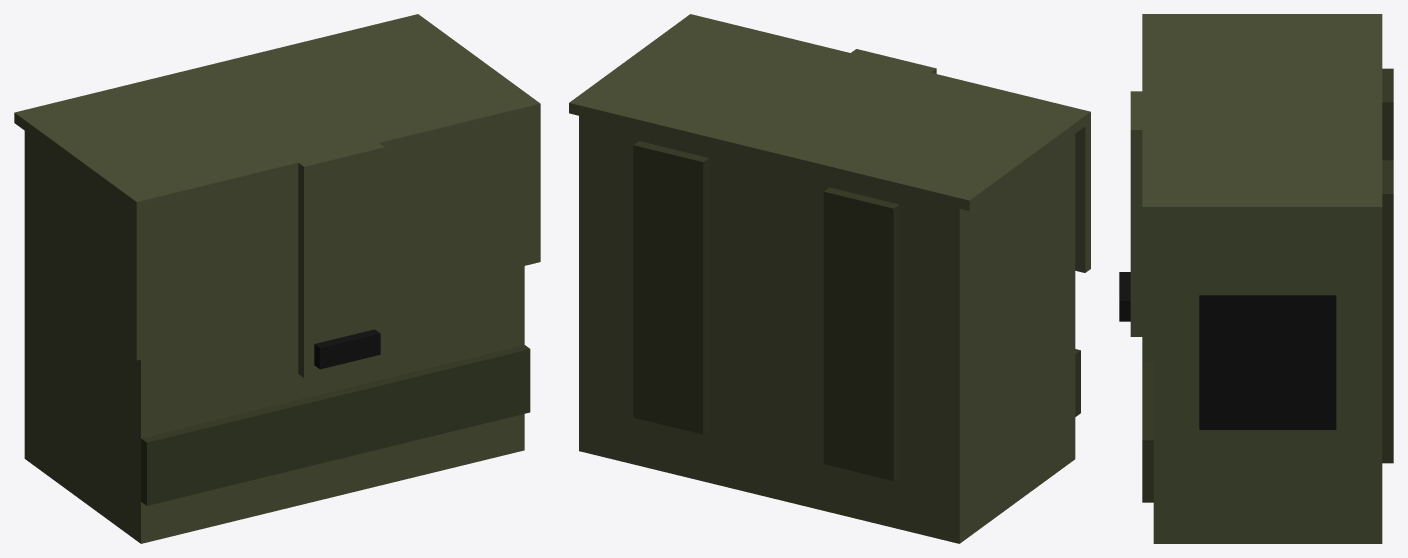
File: cheap_ammo_pouch_belt223.glb
3 views of the same model, side by side, from view 1: azimuth 30°, elevation 25°; view 2: azimuth 150°, elevation 25°; view 3: azimuth 270°, elevation 25° (orthographic). The views are drawn at different scales.
Parts seen in each view (by area): view 1: cheap_ammo_pouch_belt223:compound; view 2: cheap_ammo_pouch_belt223:compound; view 3: cheap_ammo_pouch_belt223:compound.
Part boxes in pixels (x1,y1,x2,y2): cheap_ammo_pouch_belt223:compound: (14, 14, 540, 543); cheap_ammo_pouch_belt223:compound: (569, 14, 1090, 543); cheap_ammo_pouch_belt223:compound: (1119, 14, 1393, 543).
Size of the model in its own units: 0.16 by 0.132 by 0.096.
